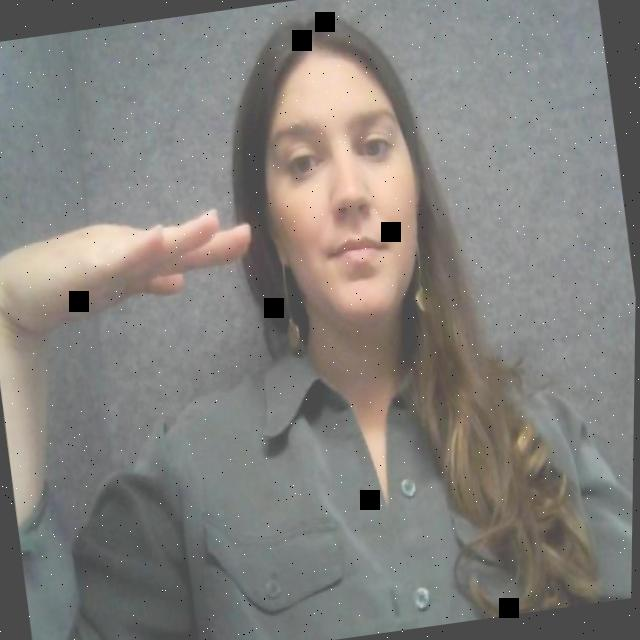Paper: (47, 188, 268, 335)
